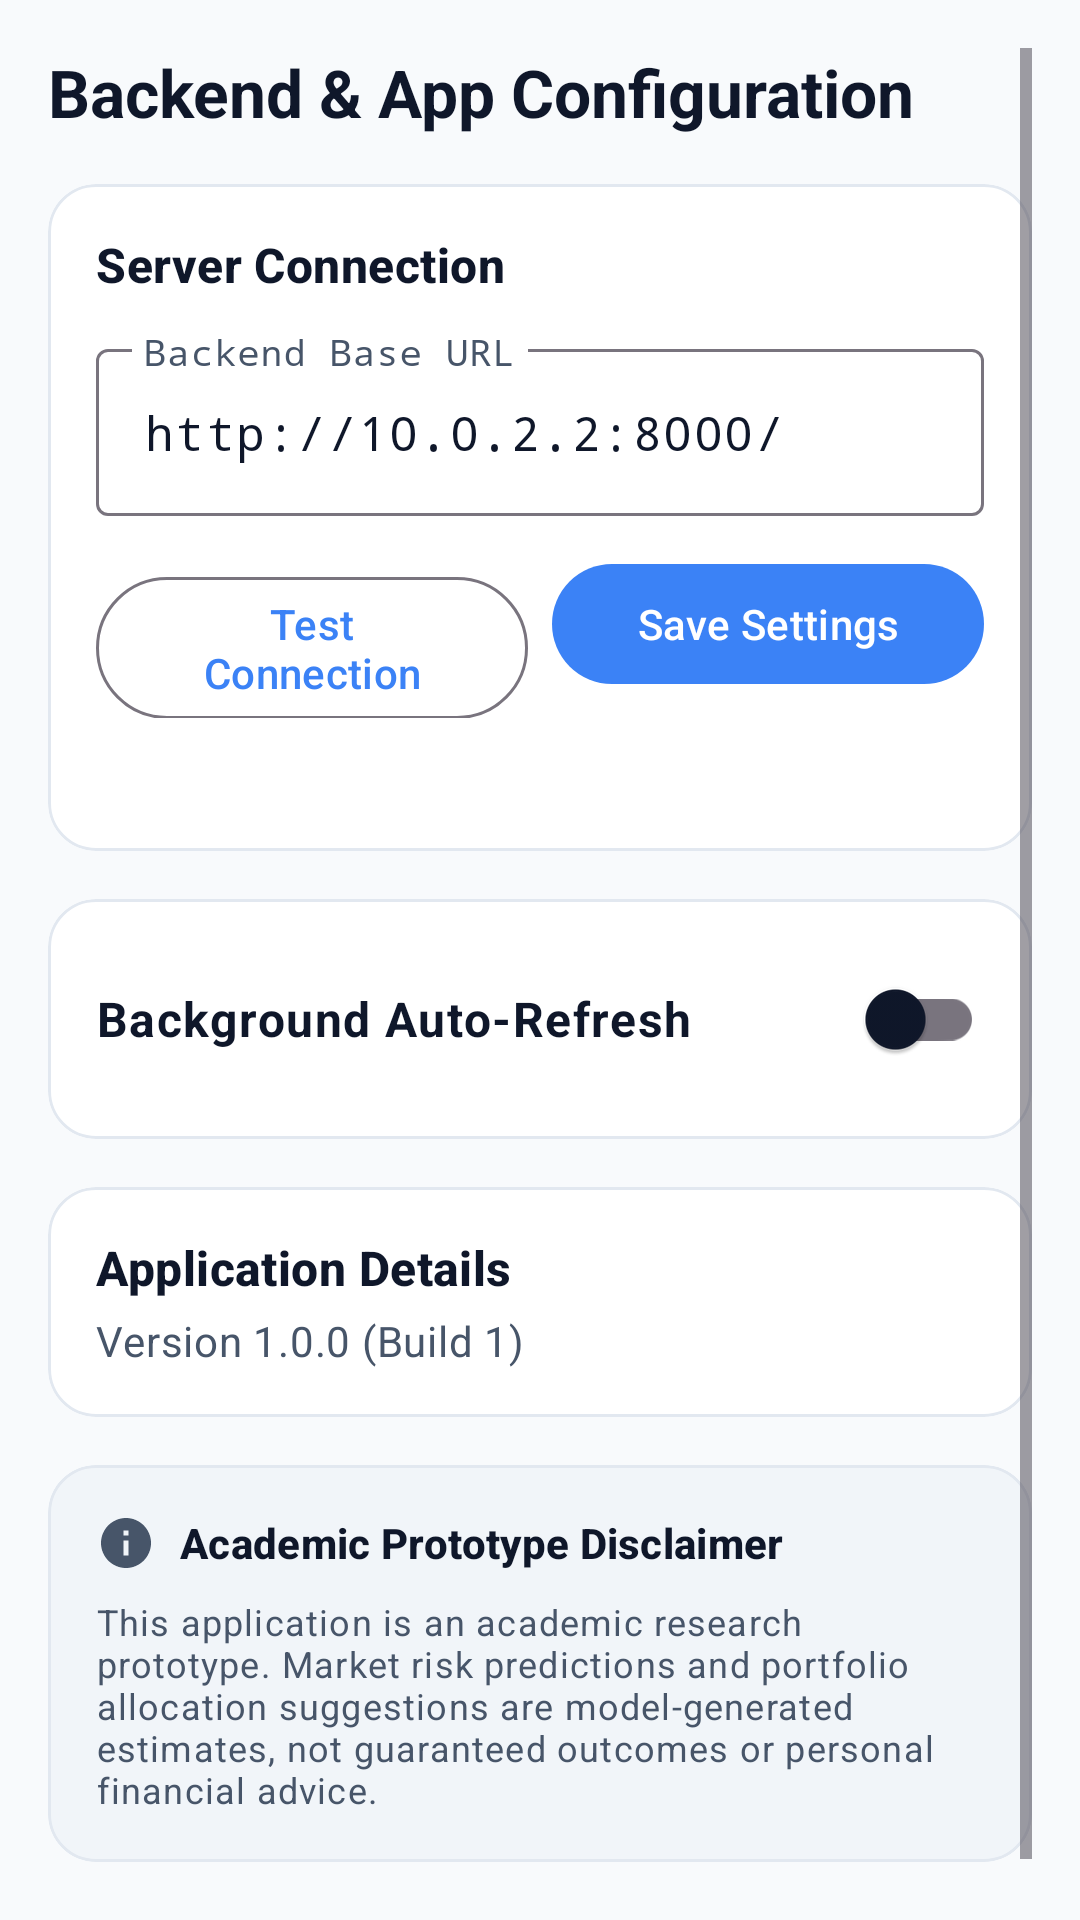

Icons on this 1080 x 1920 Android screen, each with its box as (x1, y1, x2, y2):
info: (101, 1518, 151, 1568)
